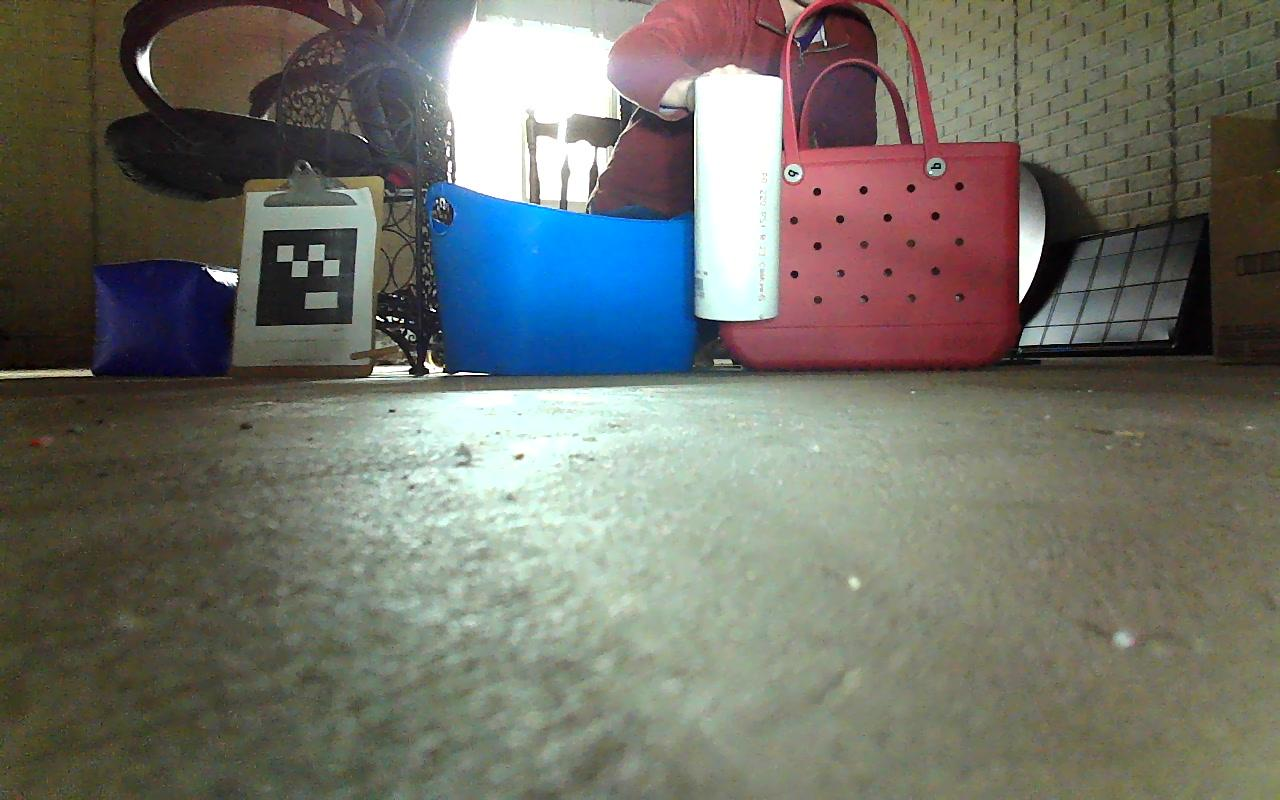coral: (691, 70, 786, 325)
